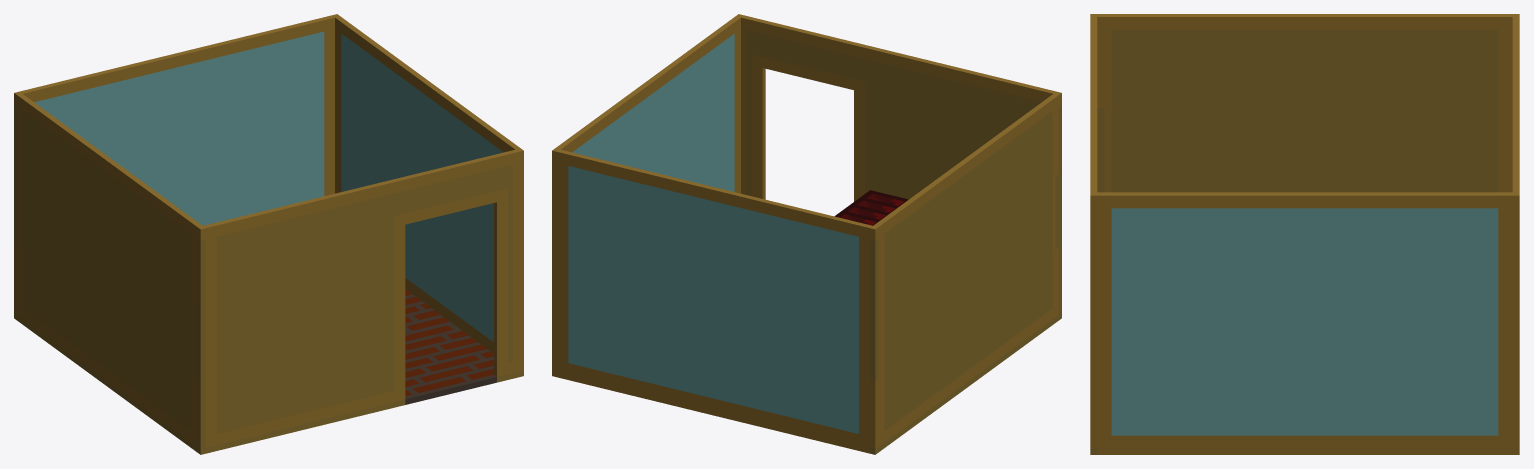
The model's file is tea room 1.obj.
3 renders of one model, left to right at view 1: azimuth 30°, elevation 25°; view 2: azimuth 150°, elevation 25°; view 3: azimuth 270°, elevation 25°, orthographic. The views are drawn at different scales.
Bounding box in the file's own units: 6 × 4 × 6.
